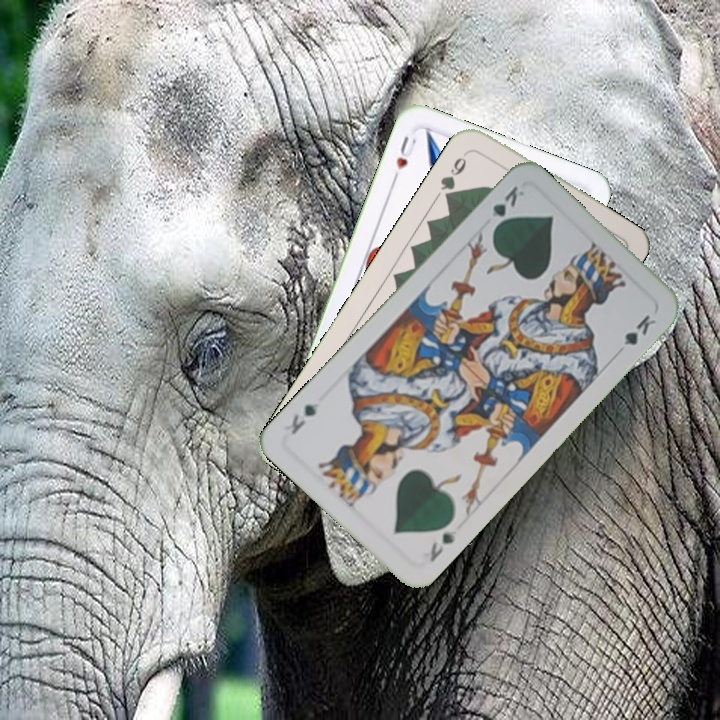G9: (436, 146, 473, 203)
GK: (487, 181, 527, 234), (425, 524, 460, 565)
HU: (389, 131, 420, 183)
